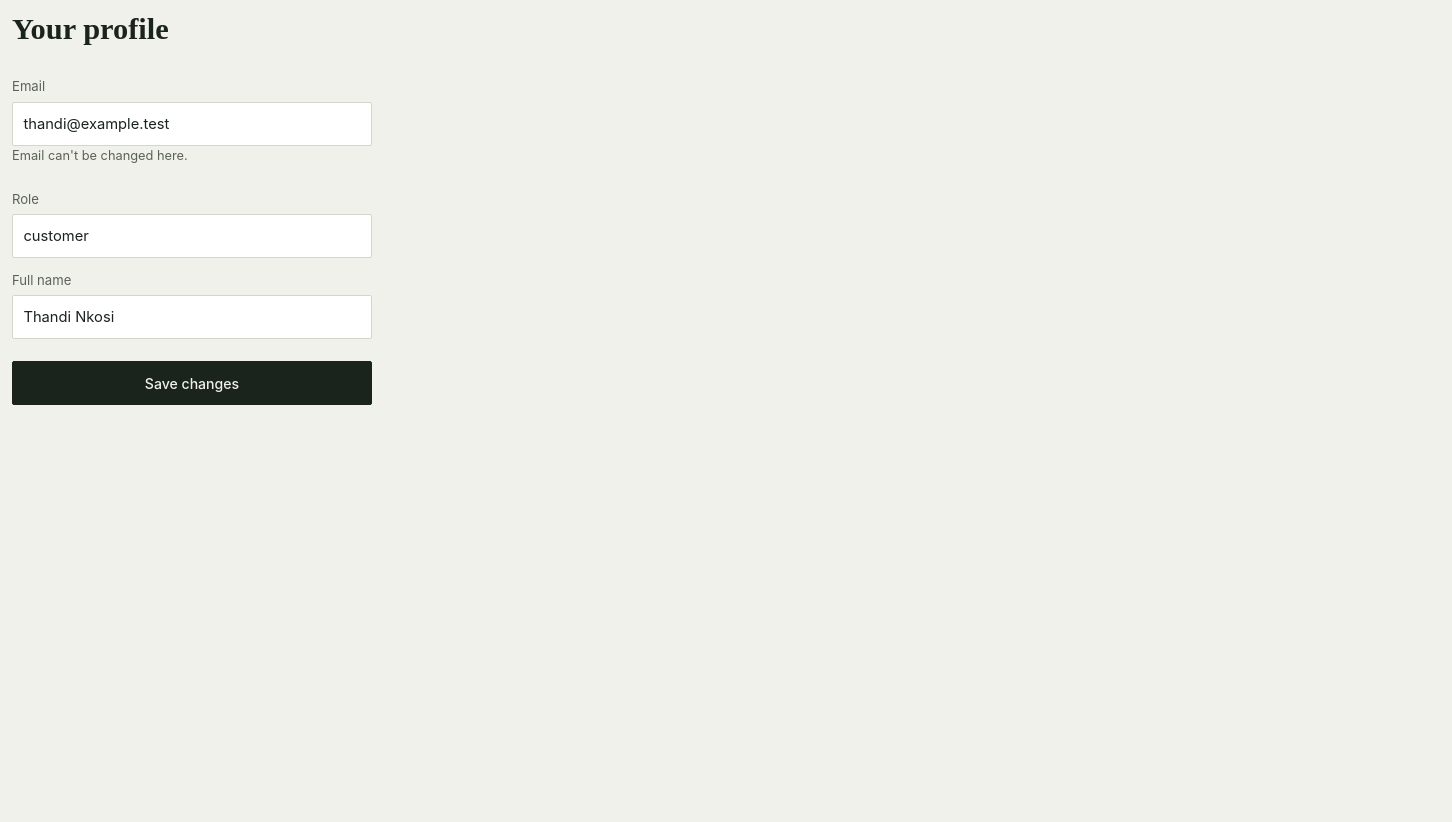
Test case: ProfilePage saving › confirms the save to the customer
Step 1. Replace the text in the field labelled "Full name" with "Thandi M Nkosi" → [192, 317], box x1=12 y1=295 x2=372 y2=339
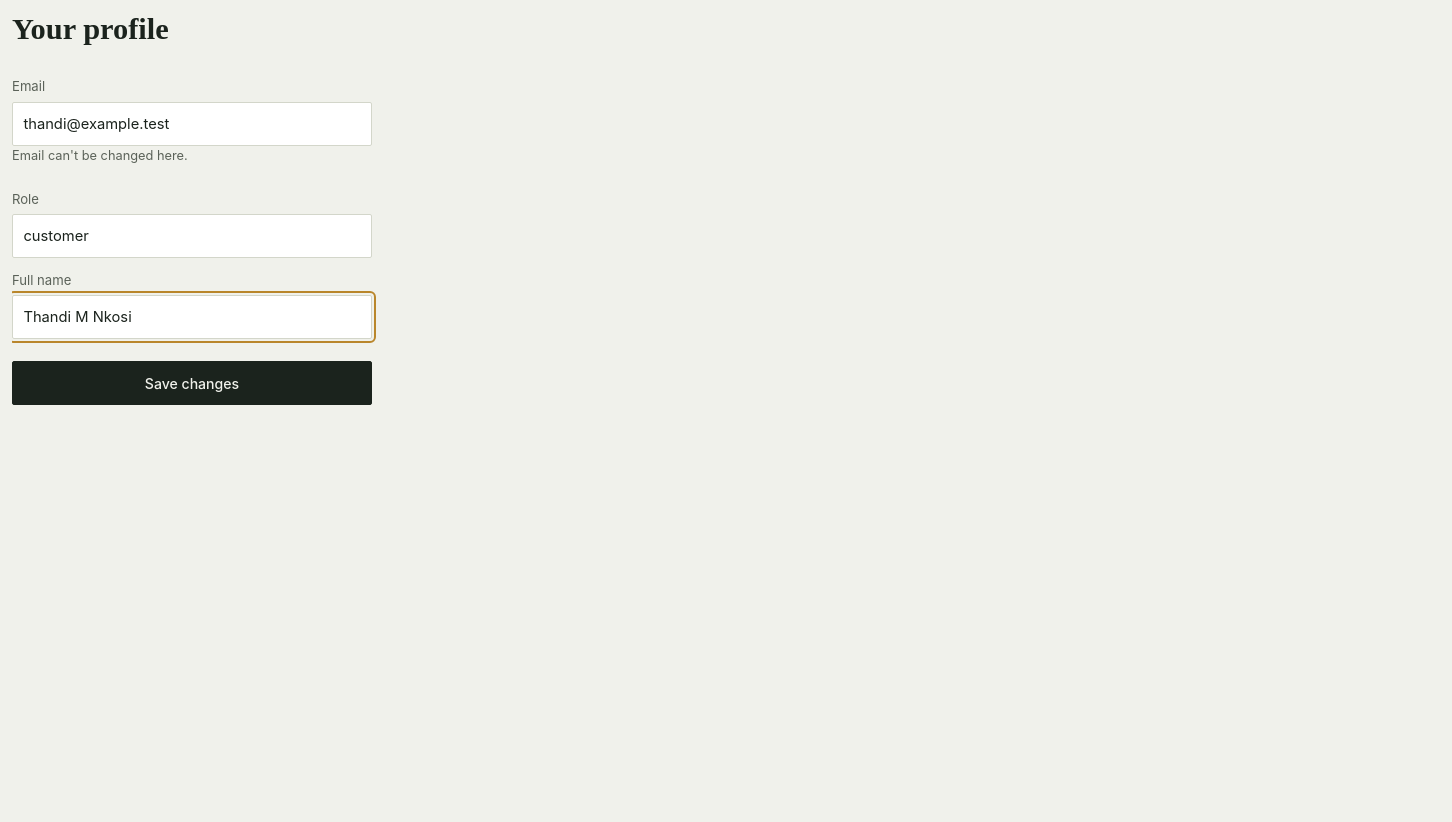
Step 2. Click the button "Save changes" → [192, 383], box x1=12 y1=361 x2=372 y2=405
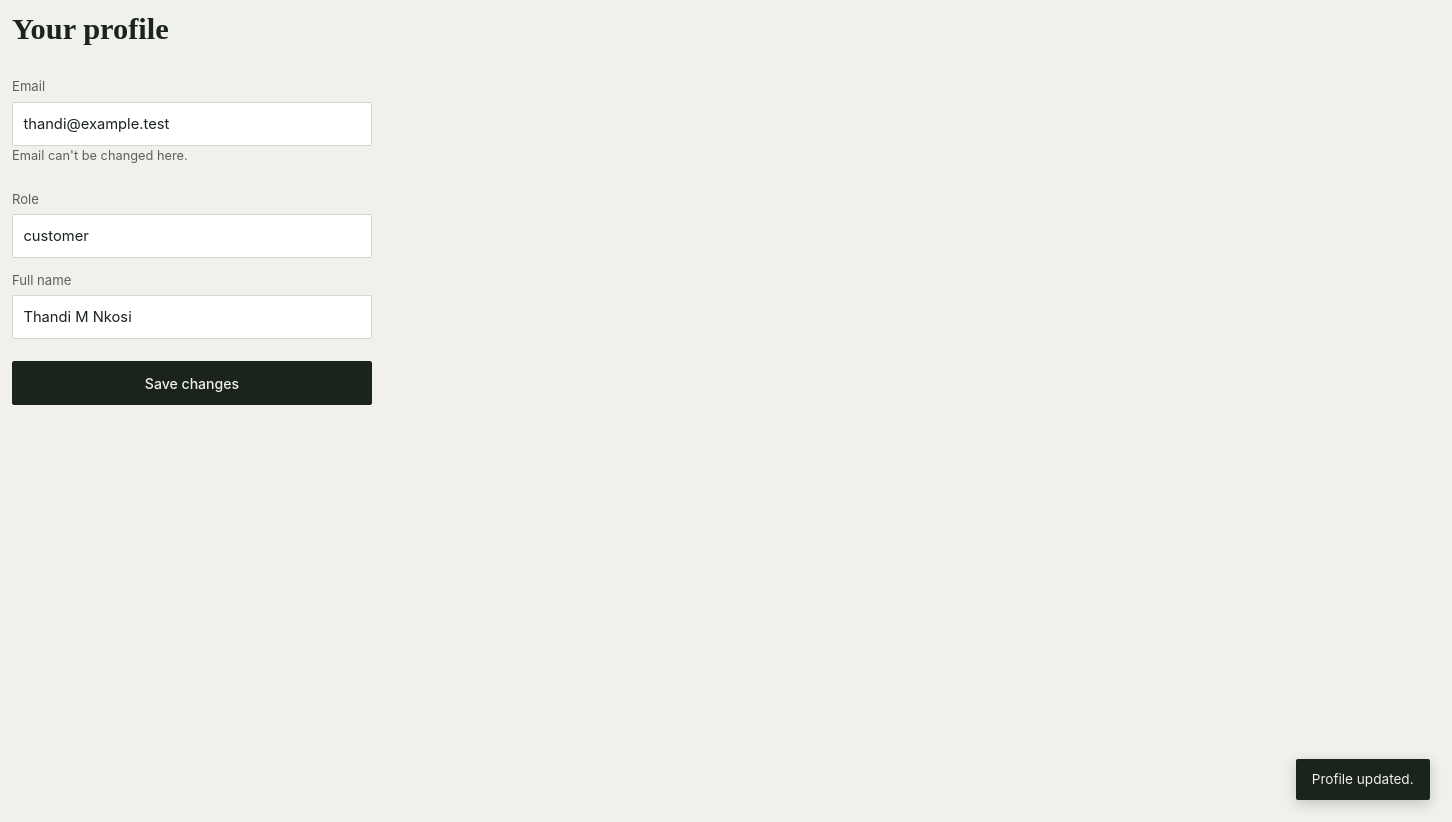
Now the text "Profile updated." is shown, box x1=1296 y1=759 x2=1430 y2=800
